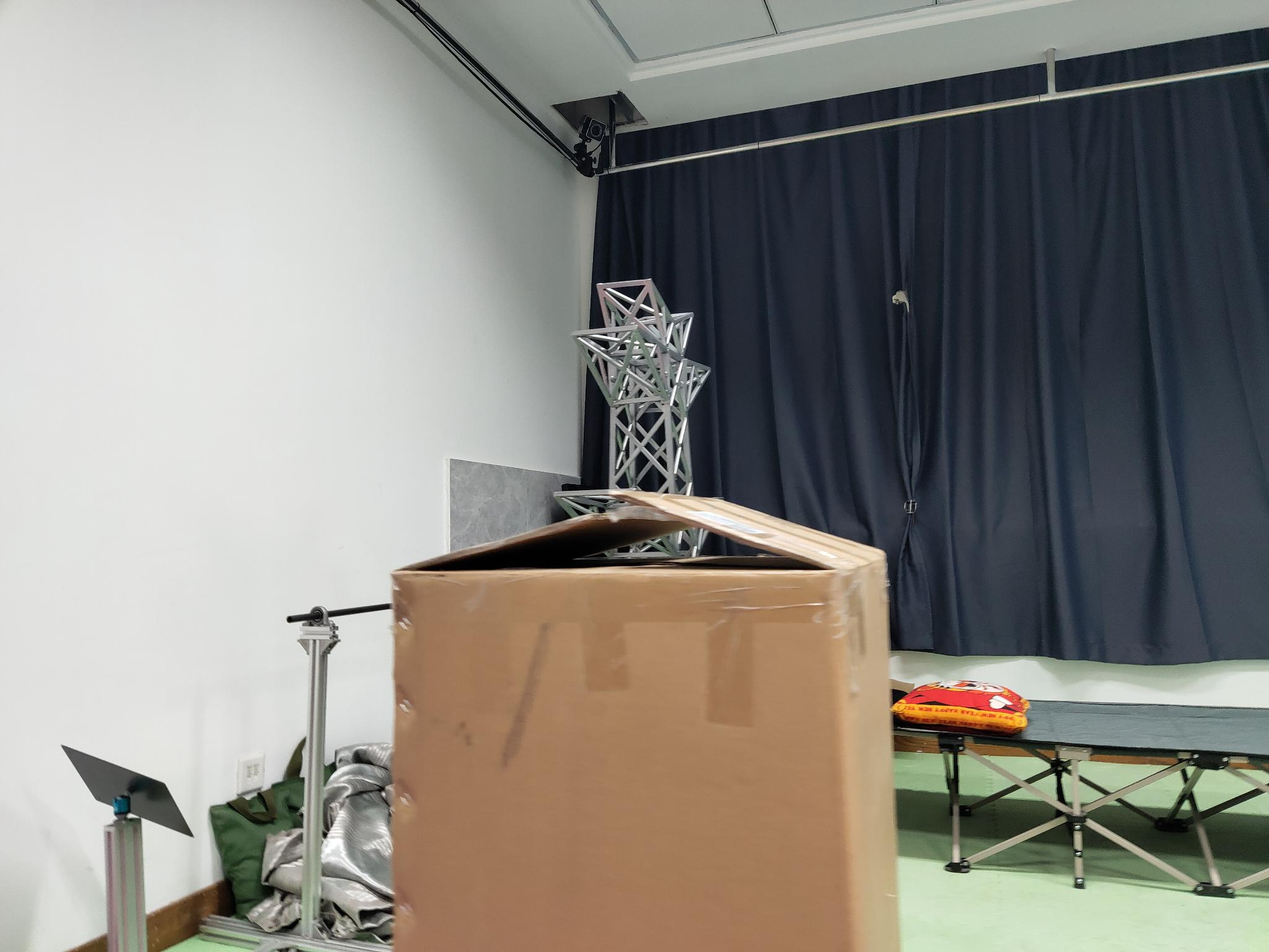tower: (550, 277, 714, 492)
